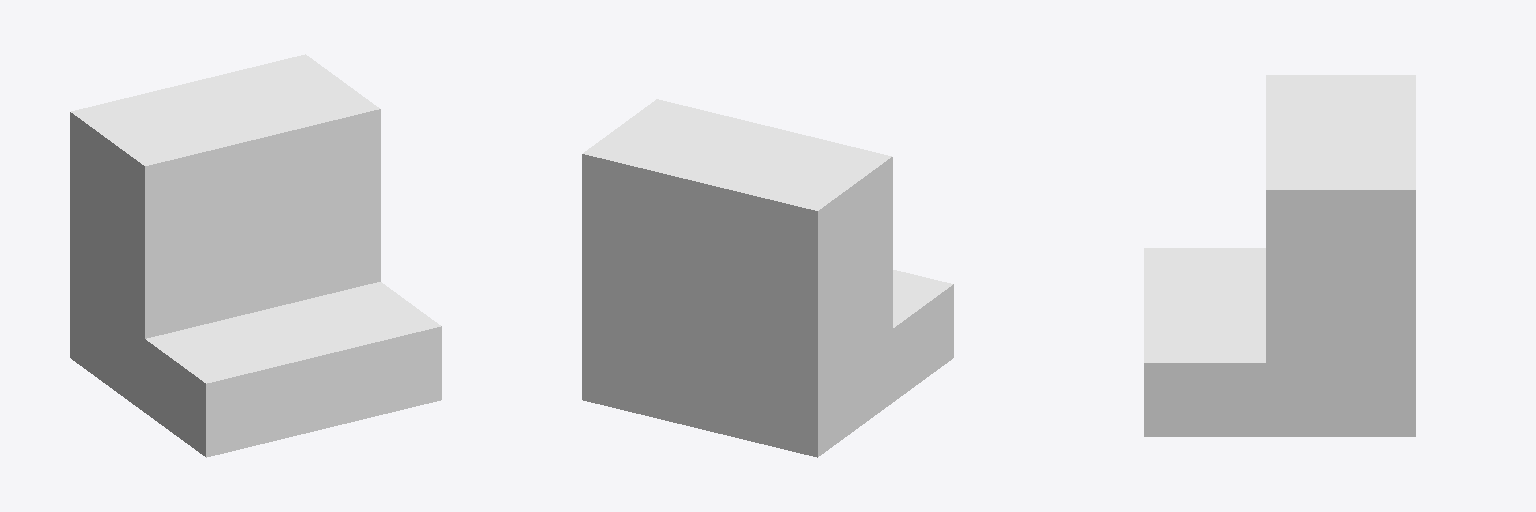
File: edge_piece.obj
3 renders of one model, left to right at view 1: azimuth 30°, elevation 25°; view 2: azimuth 150°, elevation 25°; view 3: azimuth 270°, elevation 25°, orthographic.
Parts seen in each view (by area): view 1: edge_piece; view 2: edge_piece; view 3: edge_piece.
Boxes of the visible parts, x1,y1,x2,y2 form: edge_piece: [70, 54, 441, 457]; edge_piece: [582, 99, 953, 457]; edge_piece: [1144, 75, 1415, 436].
Size of the model in its own units: 20 by 20 by 20.